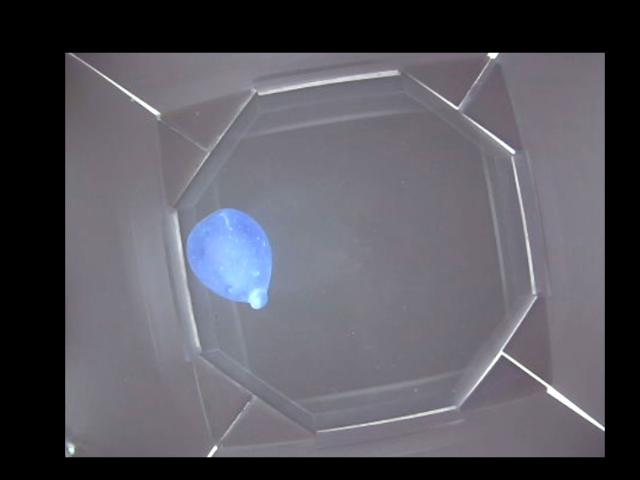Potato: (187, 207, 273, 309)
